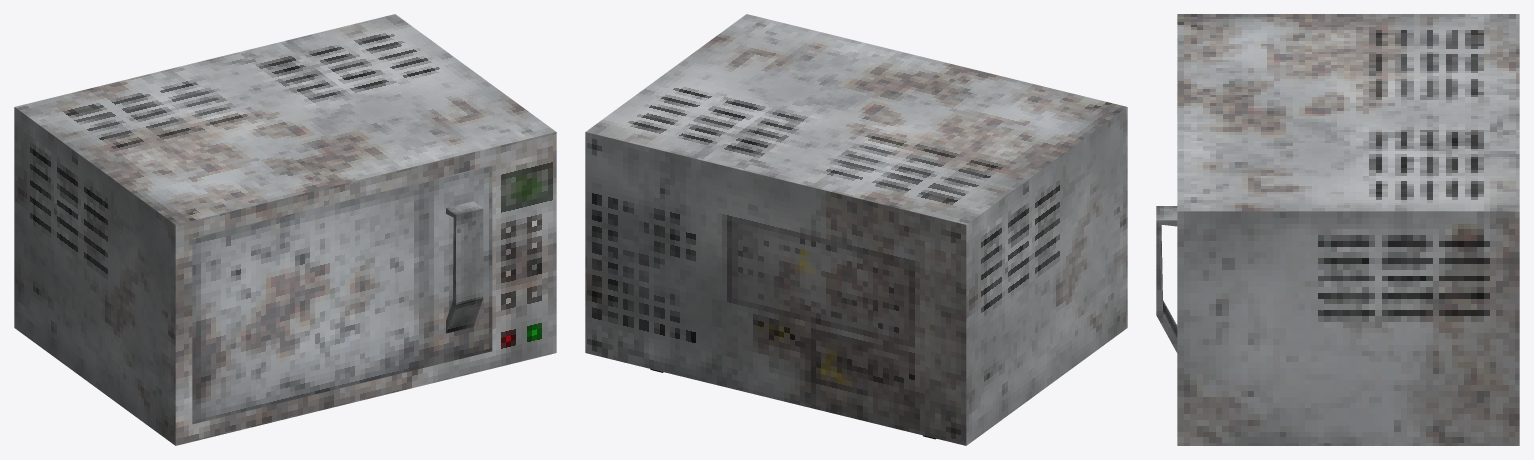
Rendered from PSX_OldMicrowave.glb.
3 views of the same model, side by side, from view 1: azimuth 30°, elevation 25°; view 2: azimuth 150°, elevation 25°; view 3: azimuth 270°, elevation 25° (orthographic). The views are drawn at different scales.
Parts seen in each view (by area): view 1: SM_OldMicrowave, SM_OldMicrowaveDoor; view 2: SM_OldMicrowave; view 3: SM_OldMicrowave, SM_OldMicrowaveDoor.
Boxes of the visible parts, bbox=[...] form: SM_OldMicrowave: bbox=[14, 14, 556, 445]; SM_OldMicrowaveDoor: bbox=[192, 165, 492, 424]; SM_OldMicrowave: bbox=[585, 14, 1127, 445]; SM_OldMicrowave: bbox=[1177, 14, 1519, 445]; SM_OldMicrowaveDoor: bbox=[1156, 206, 1177, 352].
Bounding box in the file's own units: 0.686 × 0.417 × 0.5337.
Materials: 1 (1 with a texture image).
